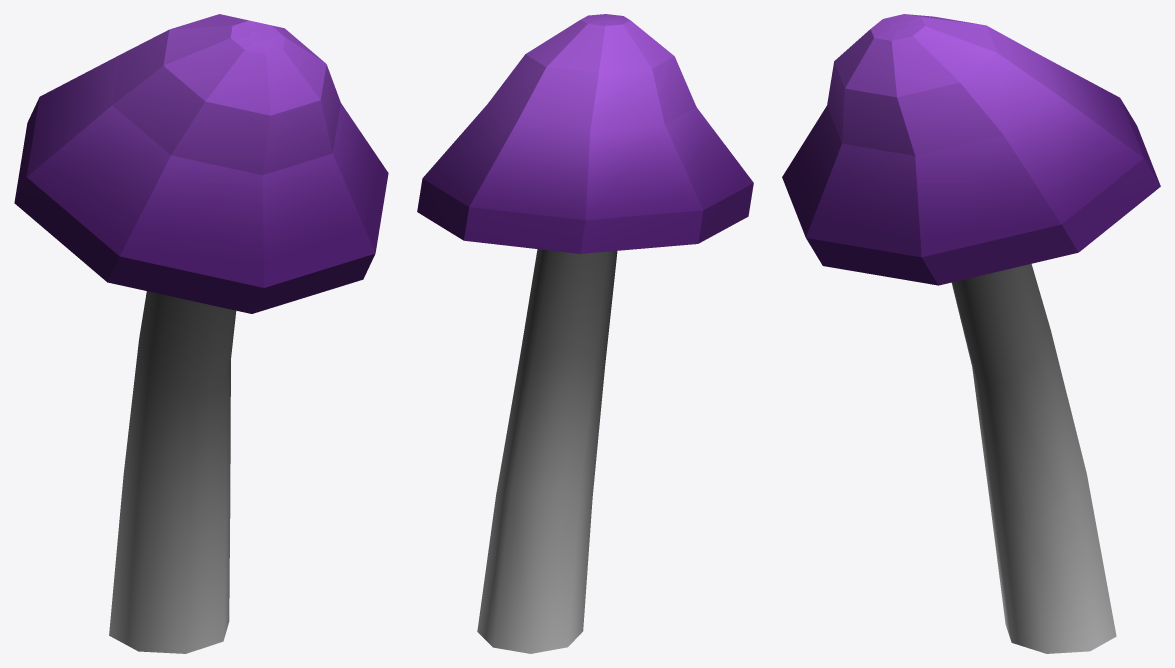
The model's file is MushroomSmallPurple.FBX.
3 renders of one model, left to right at view 1: azimuth 30°, elevation 25°; view 2: azimuth 150°, elevation 25°; view 3: azimuth 270°, elevation 25°, orthographic. The views are drawn at different scales.
Parts seen in each view (by area): view 1: Cylinder052; view 2: Cylinder052; view 3: Cylinder052.
Part boxes in pixels (x1,y1,x2,y2): Cylinder052: (14, 14, 388, 653); Cylinder052: (417, 14, 753, 653); Cylinder052: (782, 14, 1160, 653).
Bounding box in the file's own units: 13.83 × 27.32 × 15.43.
